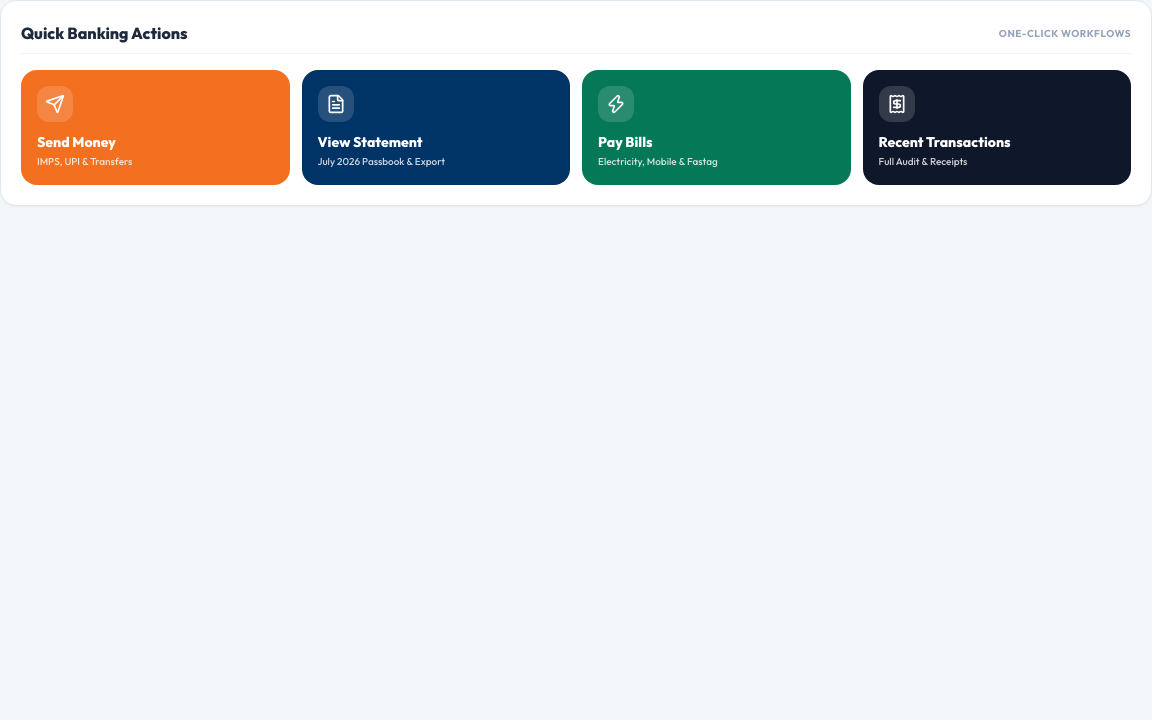
Test: Overview Quick Actions & Statement Modal Integration Tests › should render OverviewQuickActions and launch modals on click
The image size is (1152, 720).
Expected: the heading "View Statement" is shown, [318,133,423,151]
Expected: the heading "Pay Bills" is shown, [598,133,653,151]
Click the heading "Send Money" at [76, 142], box [37,133,116,151]
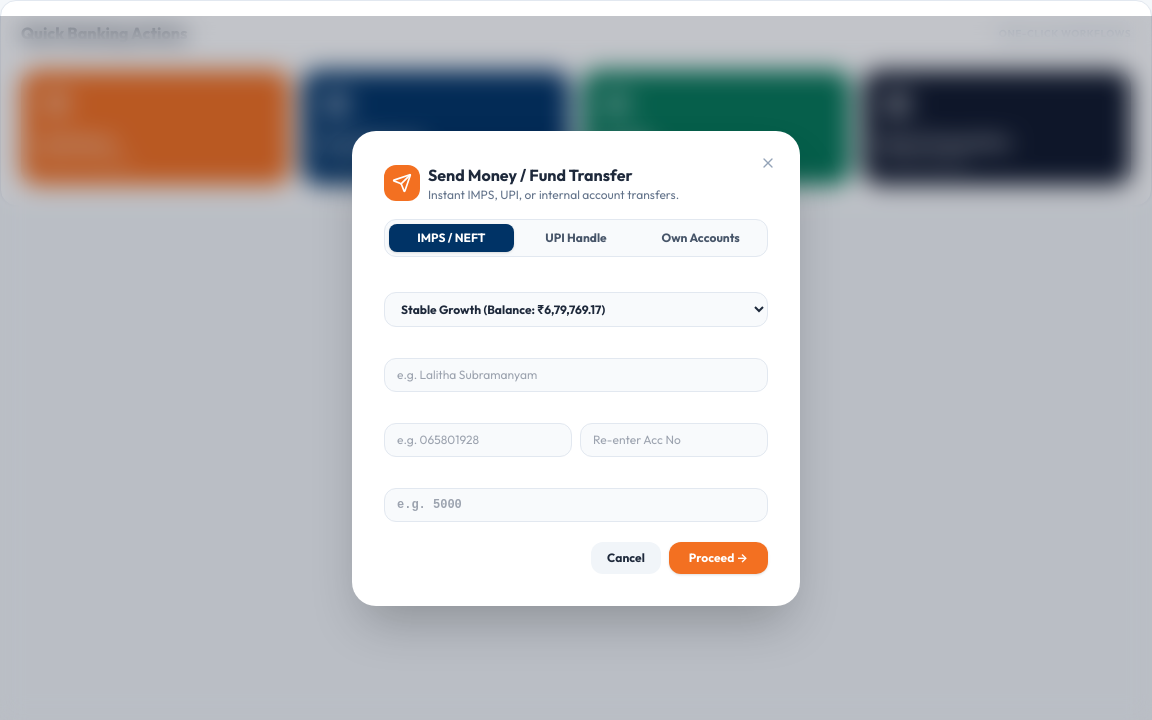
Result: the heading "Send Money / Fund Transfer" is shown at [428,164,633,184]
